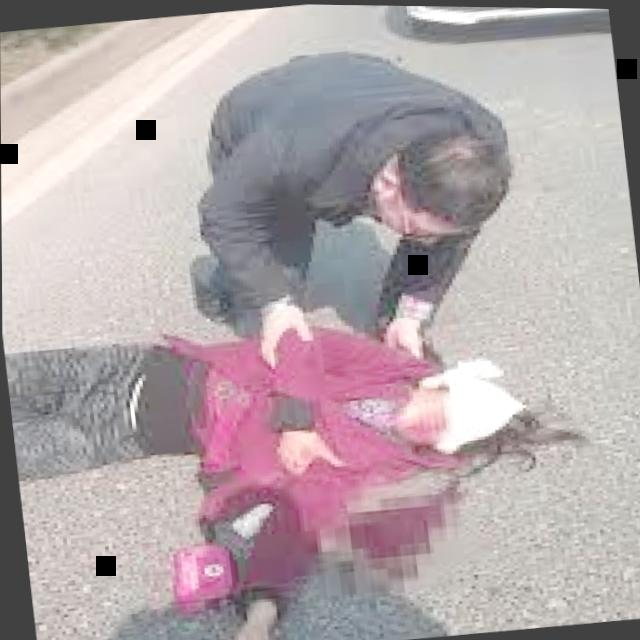Fall-Detected: (1, 233, 601, 640)
